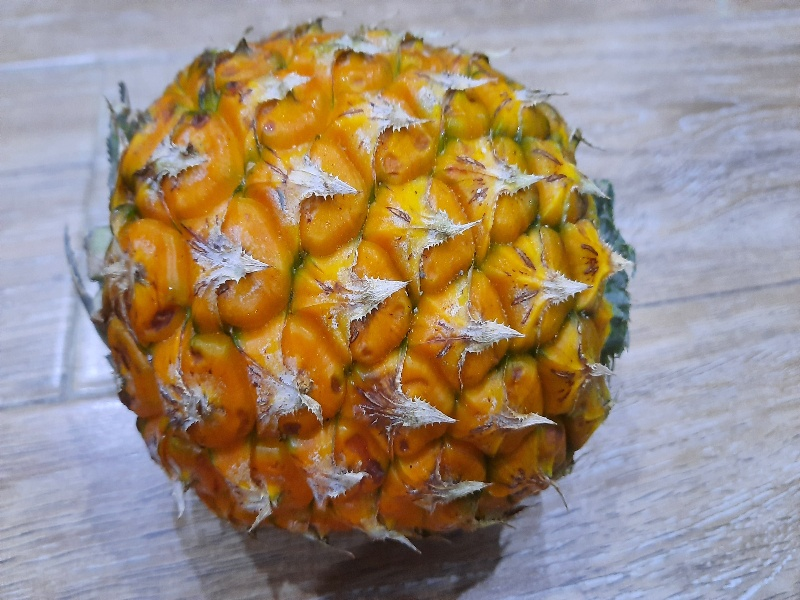fruit: (103, 23, 628, 543)
